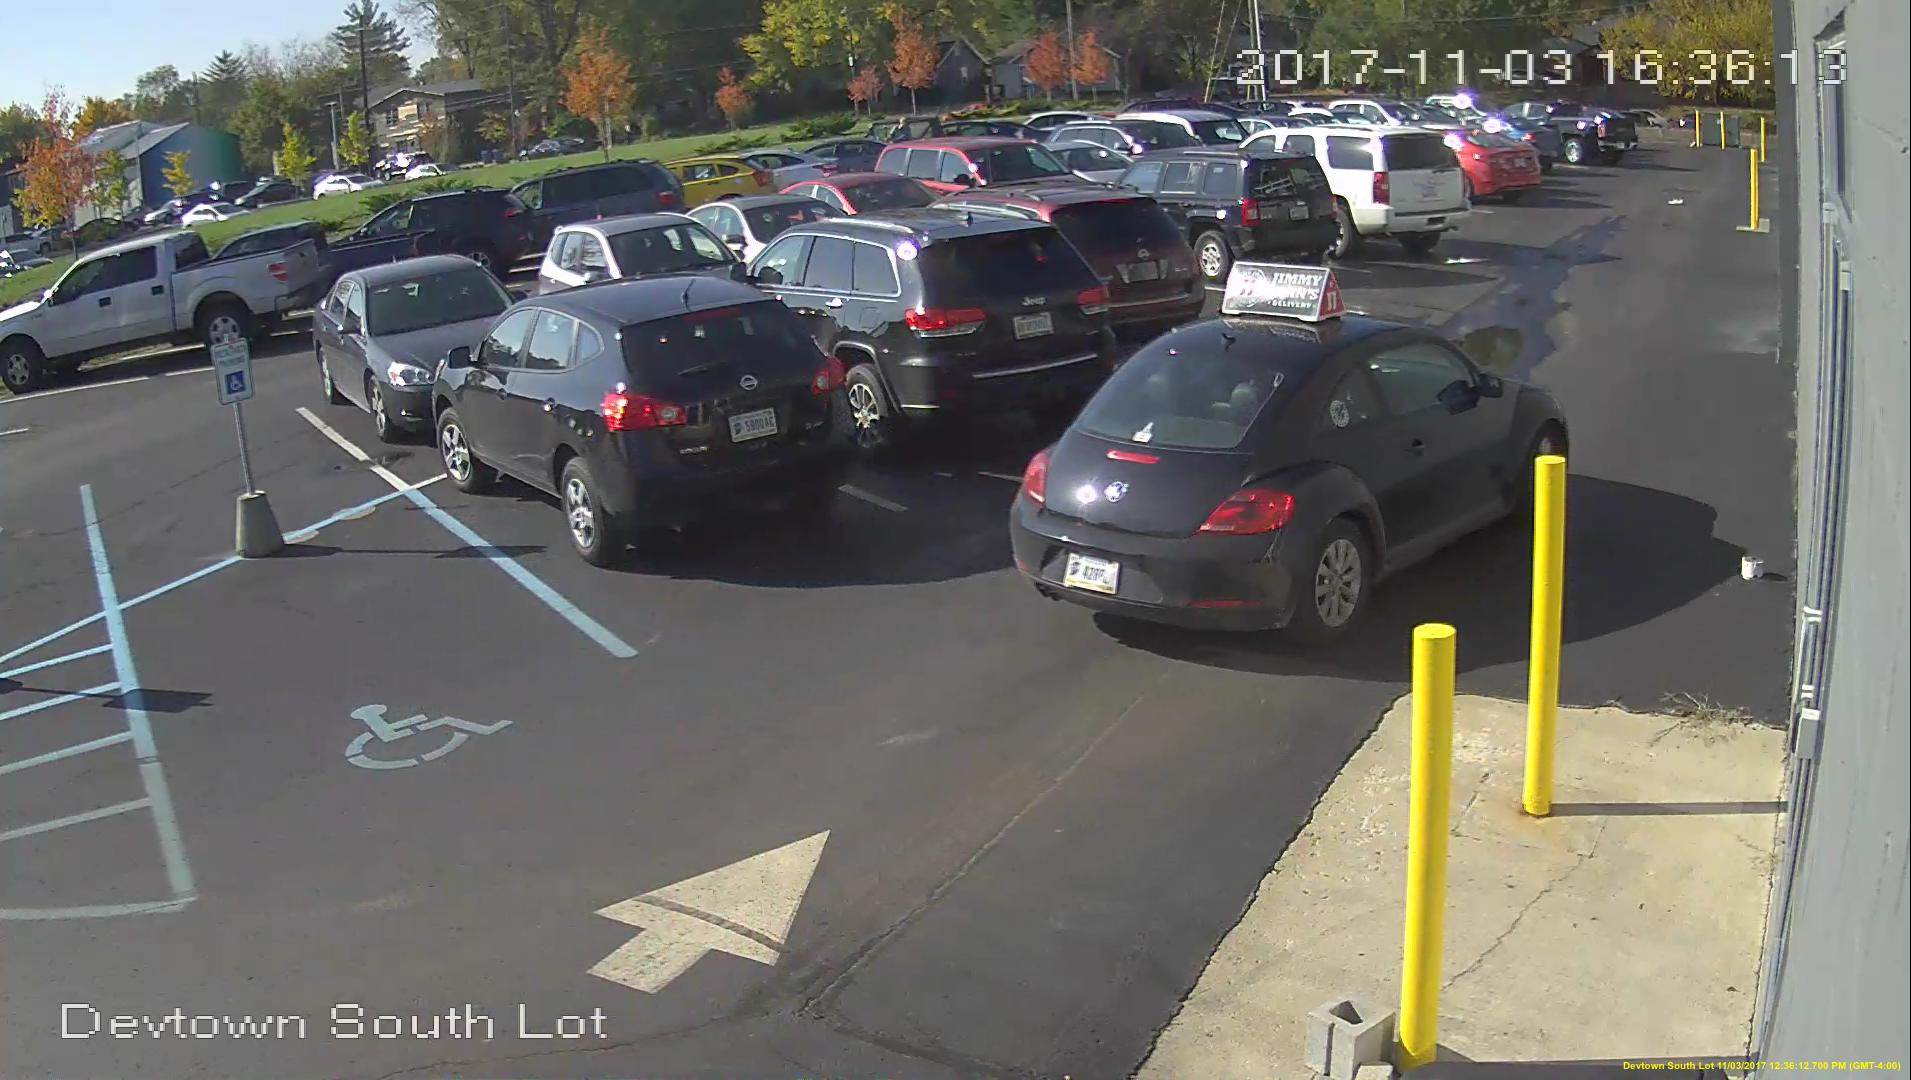jimmy_johns: (1221, 257, 1356, 328)
